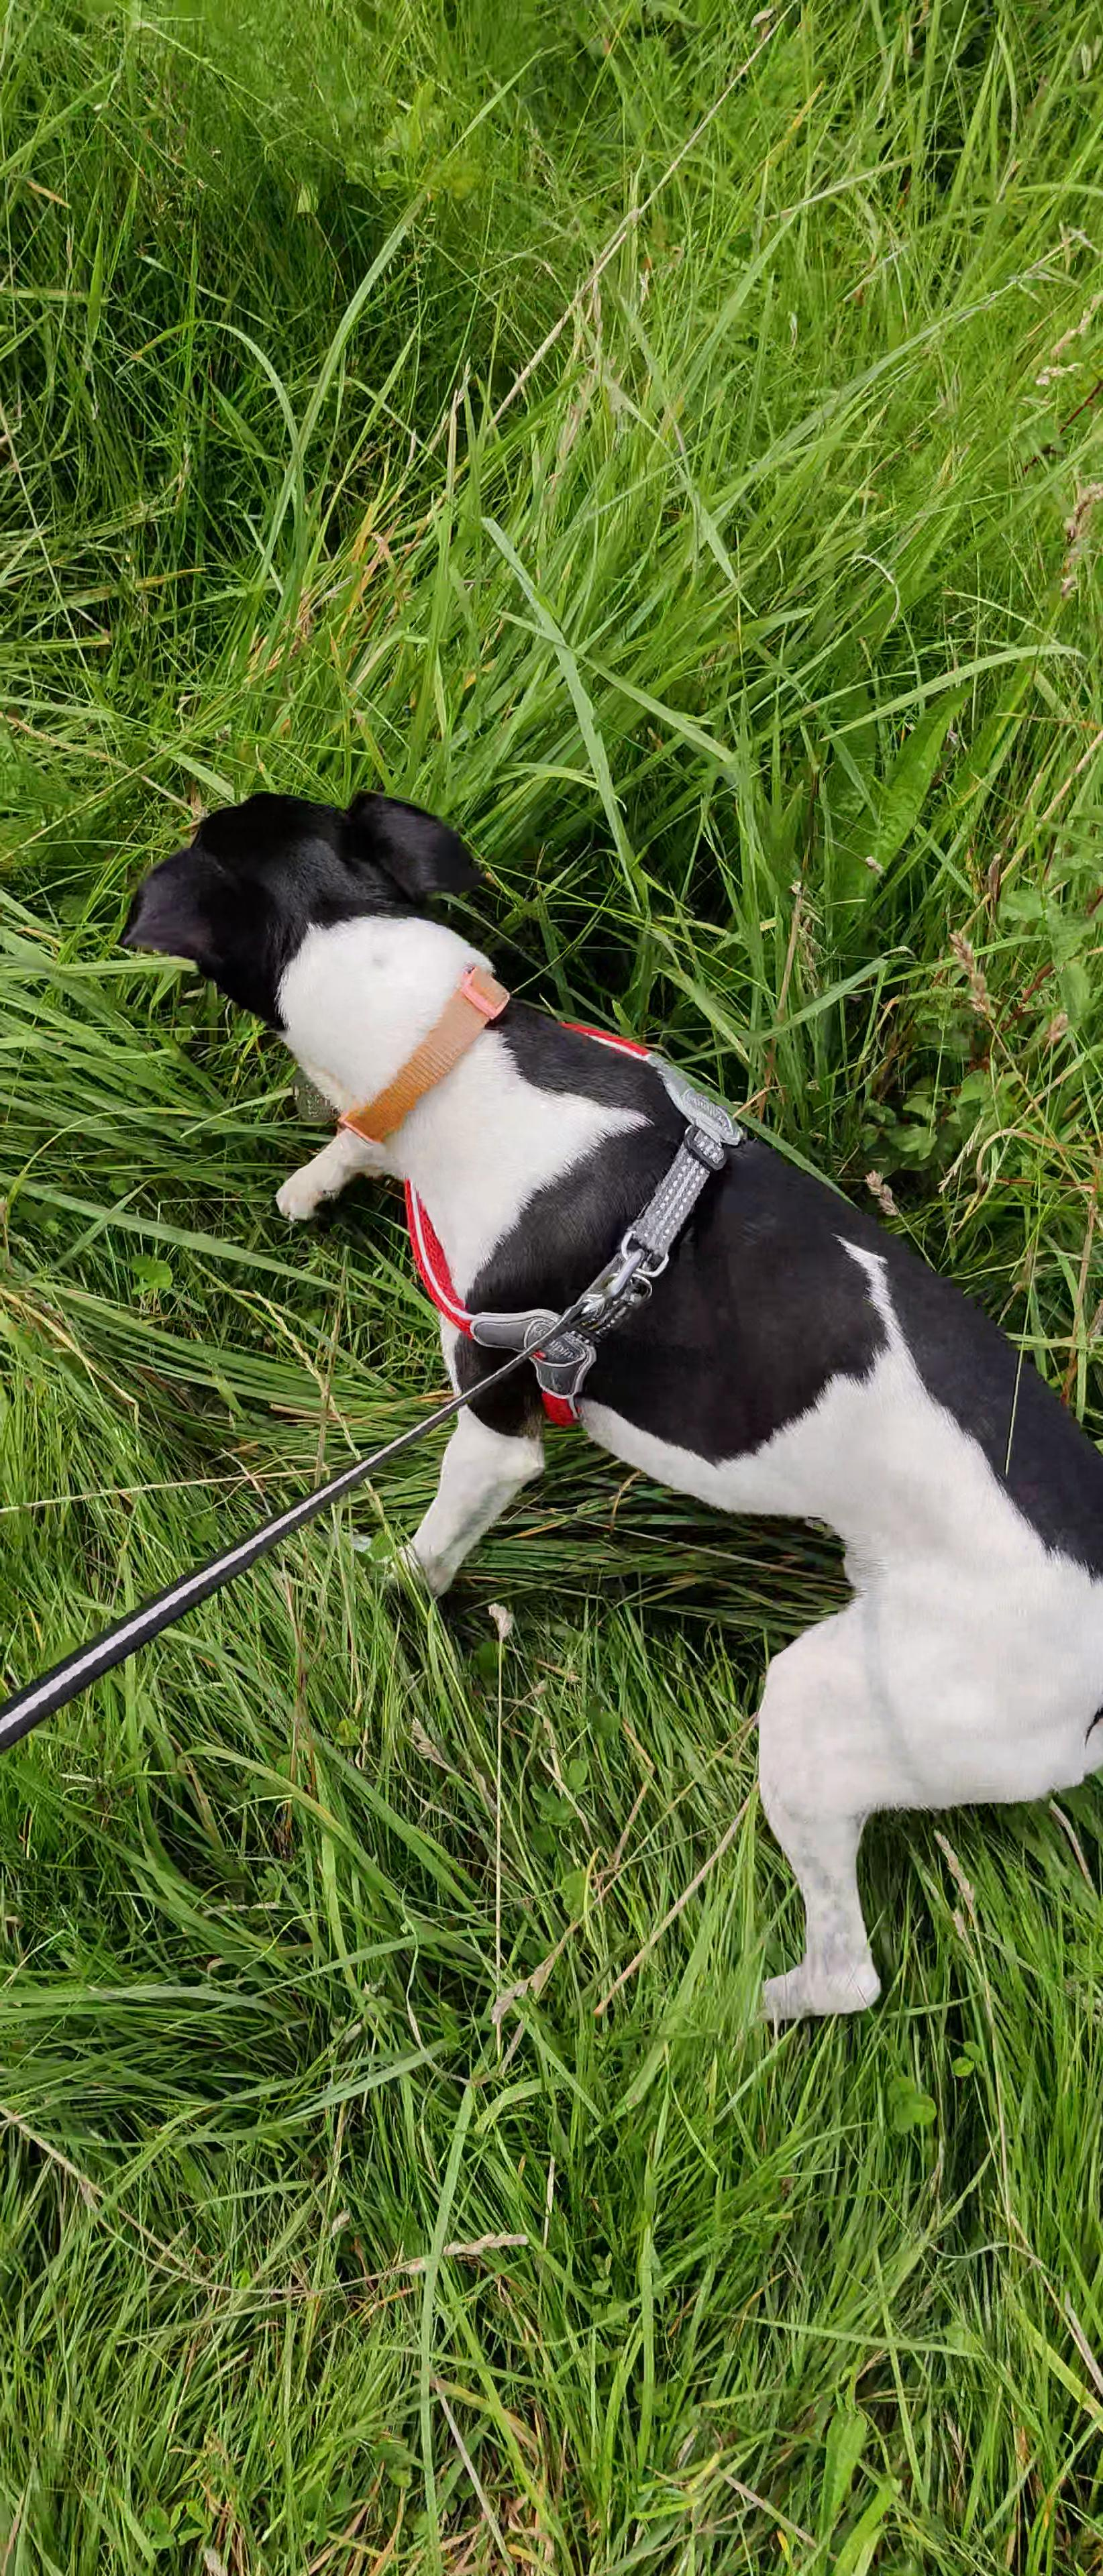Dog: (107, 739, 1103, 2062)
